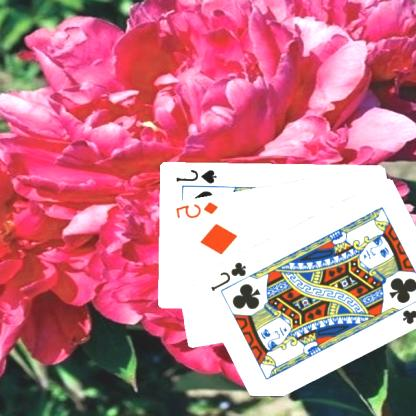5D: (174, 198, 221, 220)
JC: (209, 258, 250, 293), (400, 292, 416, 326)
JS: (175, 166, 220, 185)
